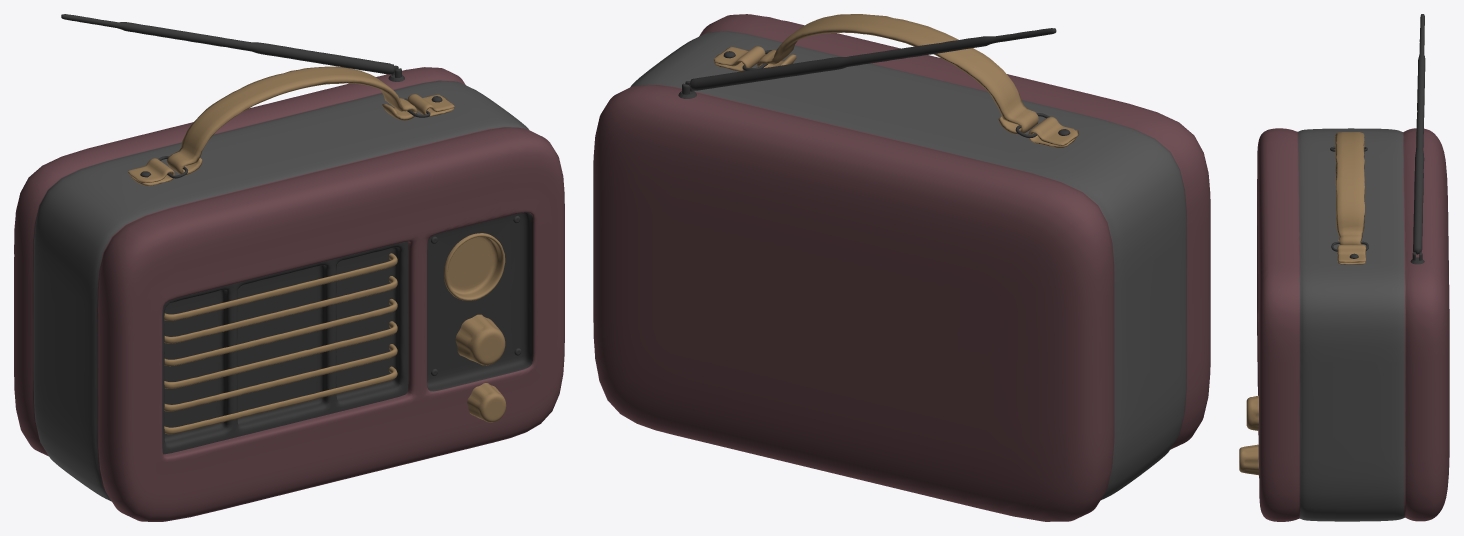
File: RadioFinal.fbx
3 renders of one model, left to right at view 1: azimuth 30°, elevation 25°; view 2: azimuth 150°, elevation 25°; view 3: azimuth 270°, elevation 25°, orthographic. The views are drawn at different scales.
Parts seen in each view (by area): view 1: polySurface9; view 2: polySurface9; view 3: polySurface9.
Boxes of the visible parts, x1,y1,x2,y2 form: polySurface9: (14,14,564,521); polySurface9: (593,14,1210,521); polySurface9: (1239,14,1449,521).
Bounding box in the file's own units: 56.25 × 52.21 × 27.61.
